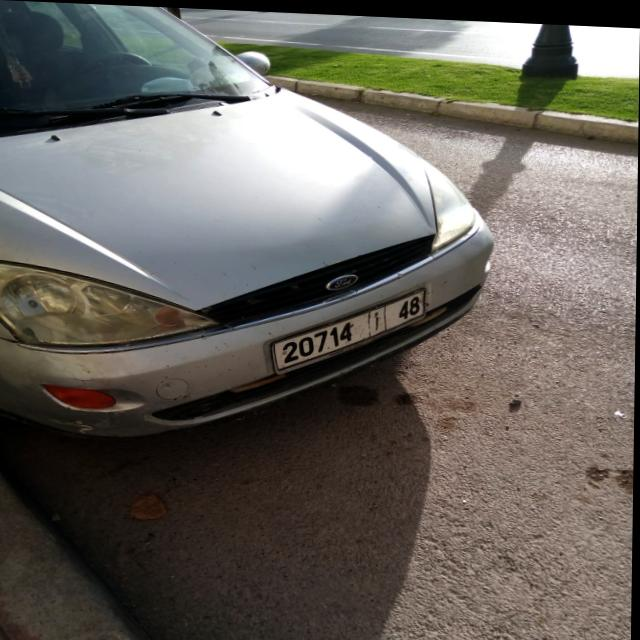License-Plate: (274, 287, 427, 368)
